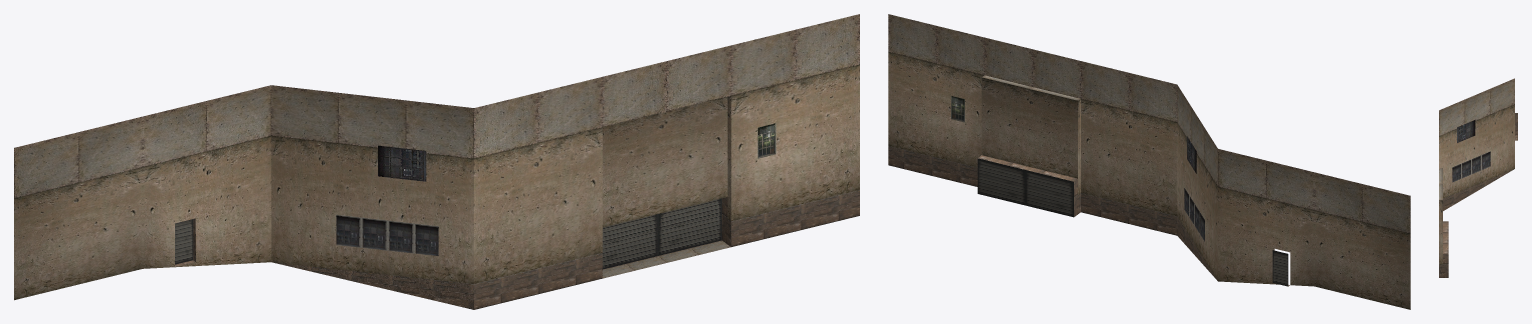
The model's file is M11Z1_TownWall05_A.glb.
The picture shows the model from 3 angles, left to right: view 1: azimuth 30°, elevation 25°; view 2: azimuth 150°, elevation 25°; view 3: azimuth 270°, elevation 25°; orthographic projection. The views are drawn at different scales.
Visible parts, largest first — view 1: M11Z1_TOWNWALL05_A; view 2: M11Z1_TOWNWALL05_A; view 3: M11Z1_TOWNWALL05_A.
Part boxes in pixels (x1,y1,x2,y2): M11Z1_TOWNWALL05_A: [14, 14, 859, 309]; M11Z1_TOWNWALL05_A: [888, 14, 1410, 309]; M11Z1_TOWNWALL05_A: [1439, 78, 1517, 277].
Bounding box in the file's own units: 48 × 12 × 8.28.
Materials: 6 (6 with a texture image).
